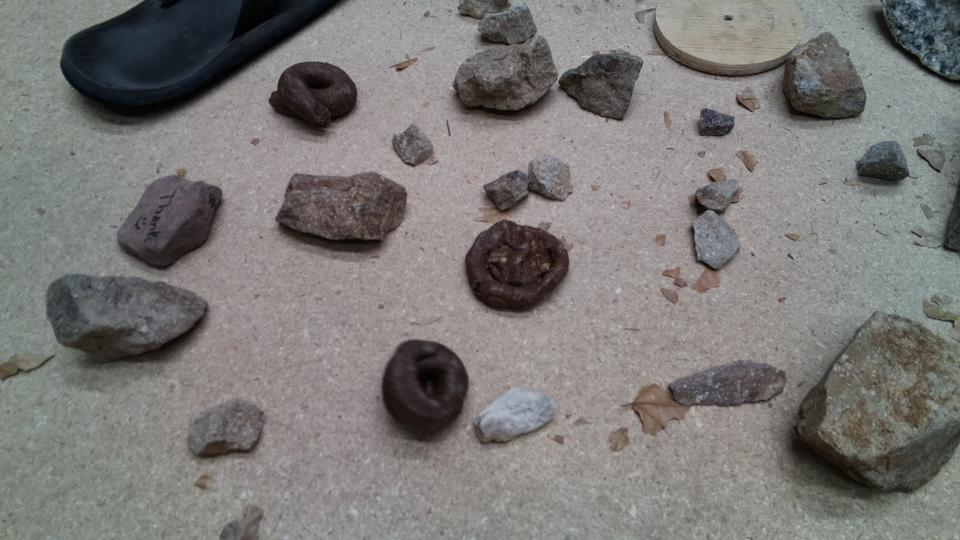poop: (463, 217, 571, 314), (381, 335, 473, 443), (265, 59, 361, 137)
